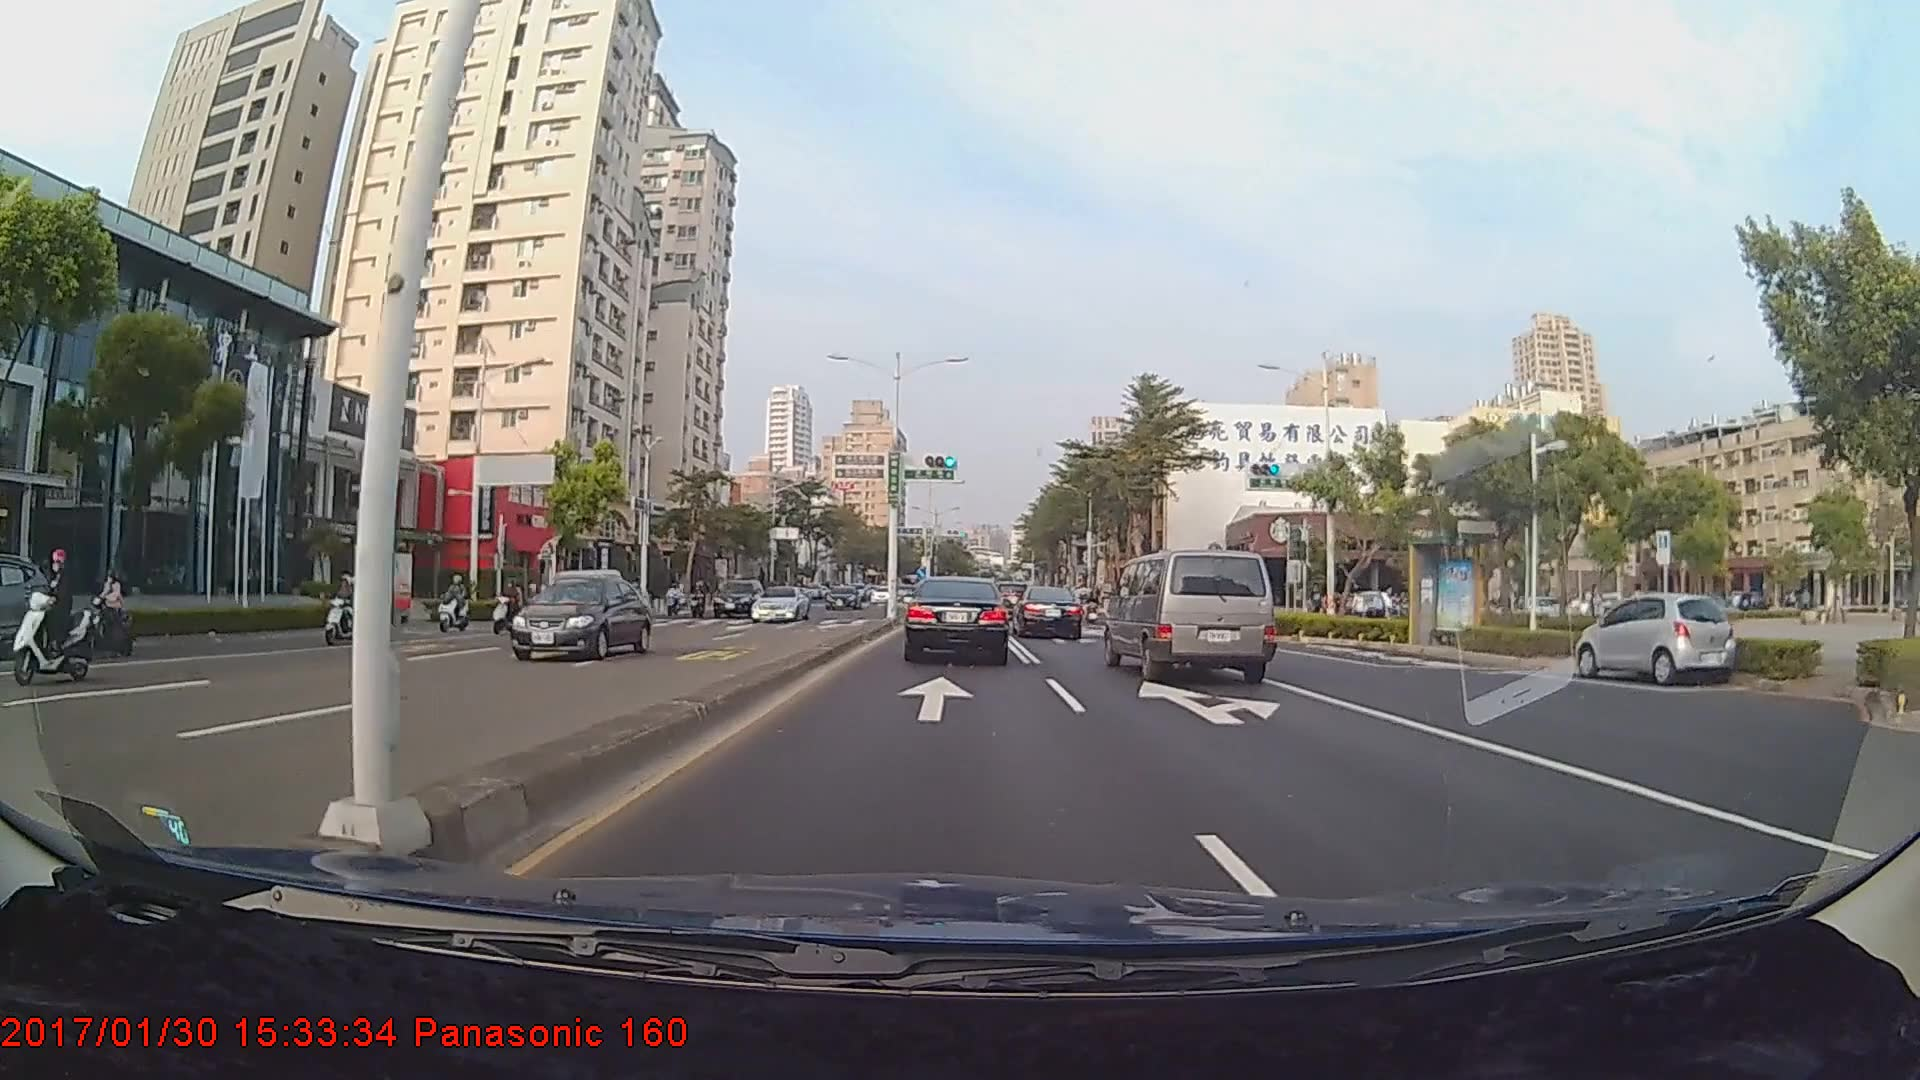rider: (7, 550, 97, 691), (75, 572, 142, 663), (317, 575, 369, 644), (436, 571, 477, 636), (488, 577, 526, 639)
vehicle: (1102, 542, 1279, 690), (1574, 593, 1737, 684), (510, 577, 657, 662), (905, 576, 1008, 661), (521, 569, 625, 629), (1011, 585, 1085, 639), (746, 584, 808, 623), (711, 577, 764, 617), (823, 584, 859, 609)
